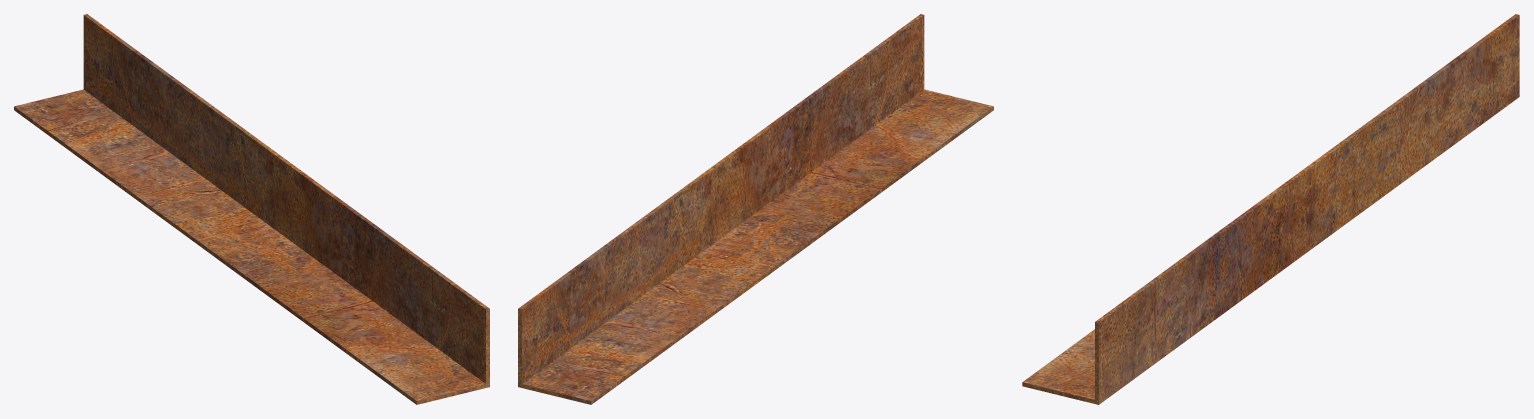
File: Metal_Bar_B_1.fbx
3 views of the same model, side by side, from view 1: azimuth 30°, elevation 25°; view 2: azimuth 150°, elevation 25°; view 3: azimuth 330°, elevation 25° (orthographic). The views are drawn at different scales.
Parts seen in each view (by area): view 1: pCube2; view 2: pCube2; view 3: pCube2.
Boxes of the visible parts, x1,y1,x2,y2 form: pCube2: (14, 14, 489, 404); pCube2: (518, 14, 993, 404); pCube2: (1022, 14, 1519, 404).
Size of the model in its own units: 0.975 by 1 by 9.3.
